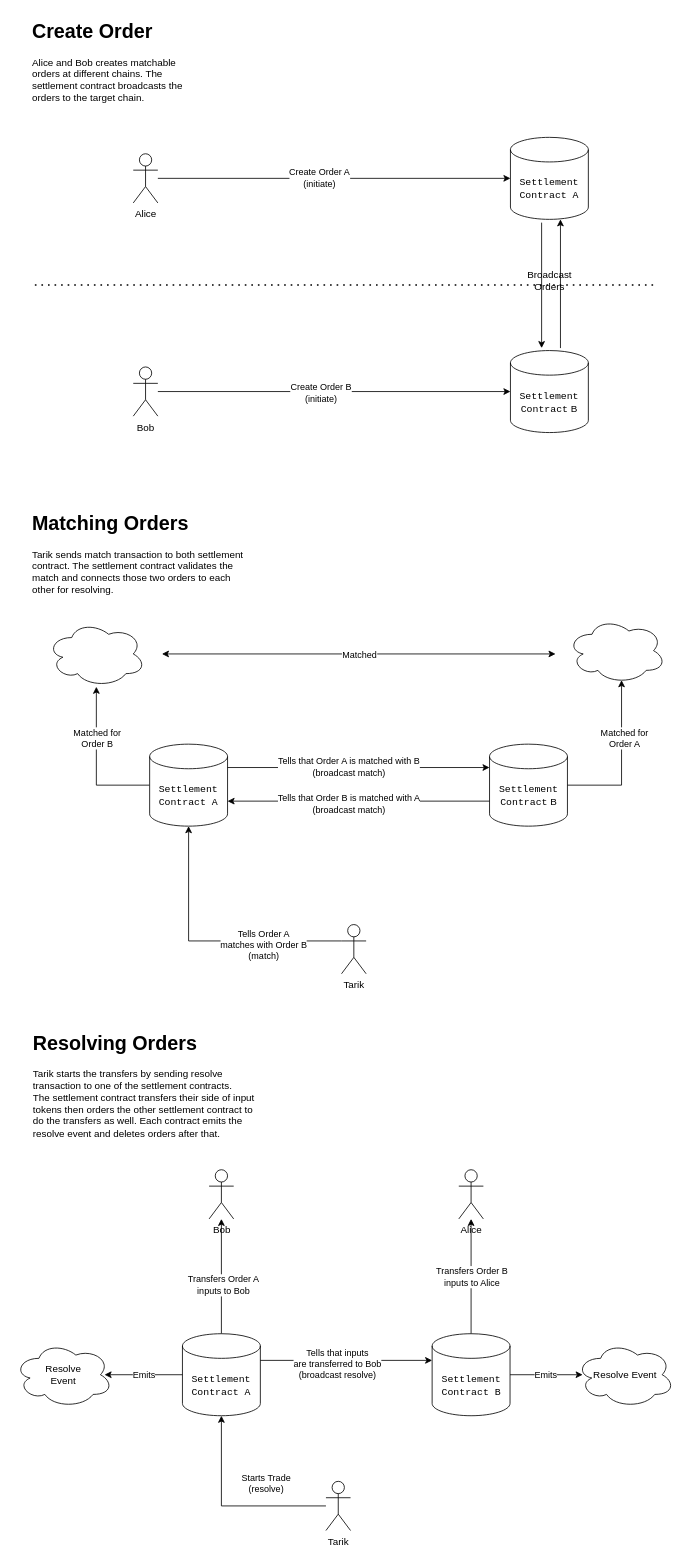
Some shapes in this 689 by 1561 pixel diagram are drawn without their labels. Here are the shapes that lost their labels. From the top down, the centre of each, then its label:
At [96,653]: "Order A".
At [616,650]: "Order B".
